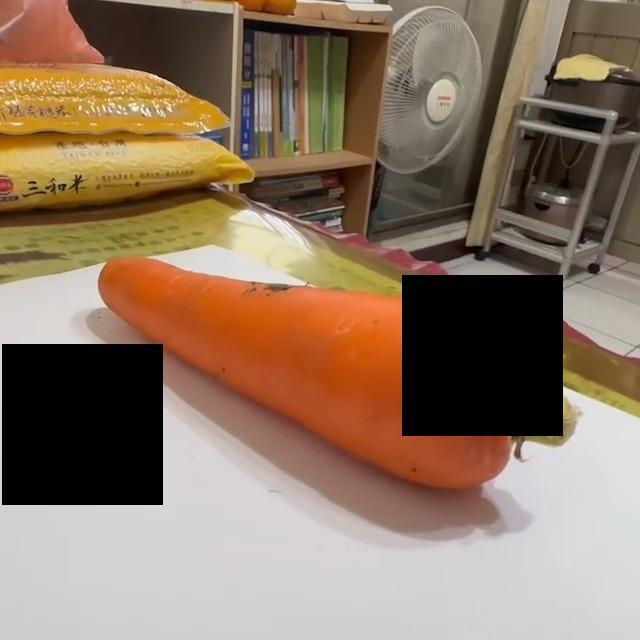carrot: (95, 256, 583, 493)
